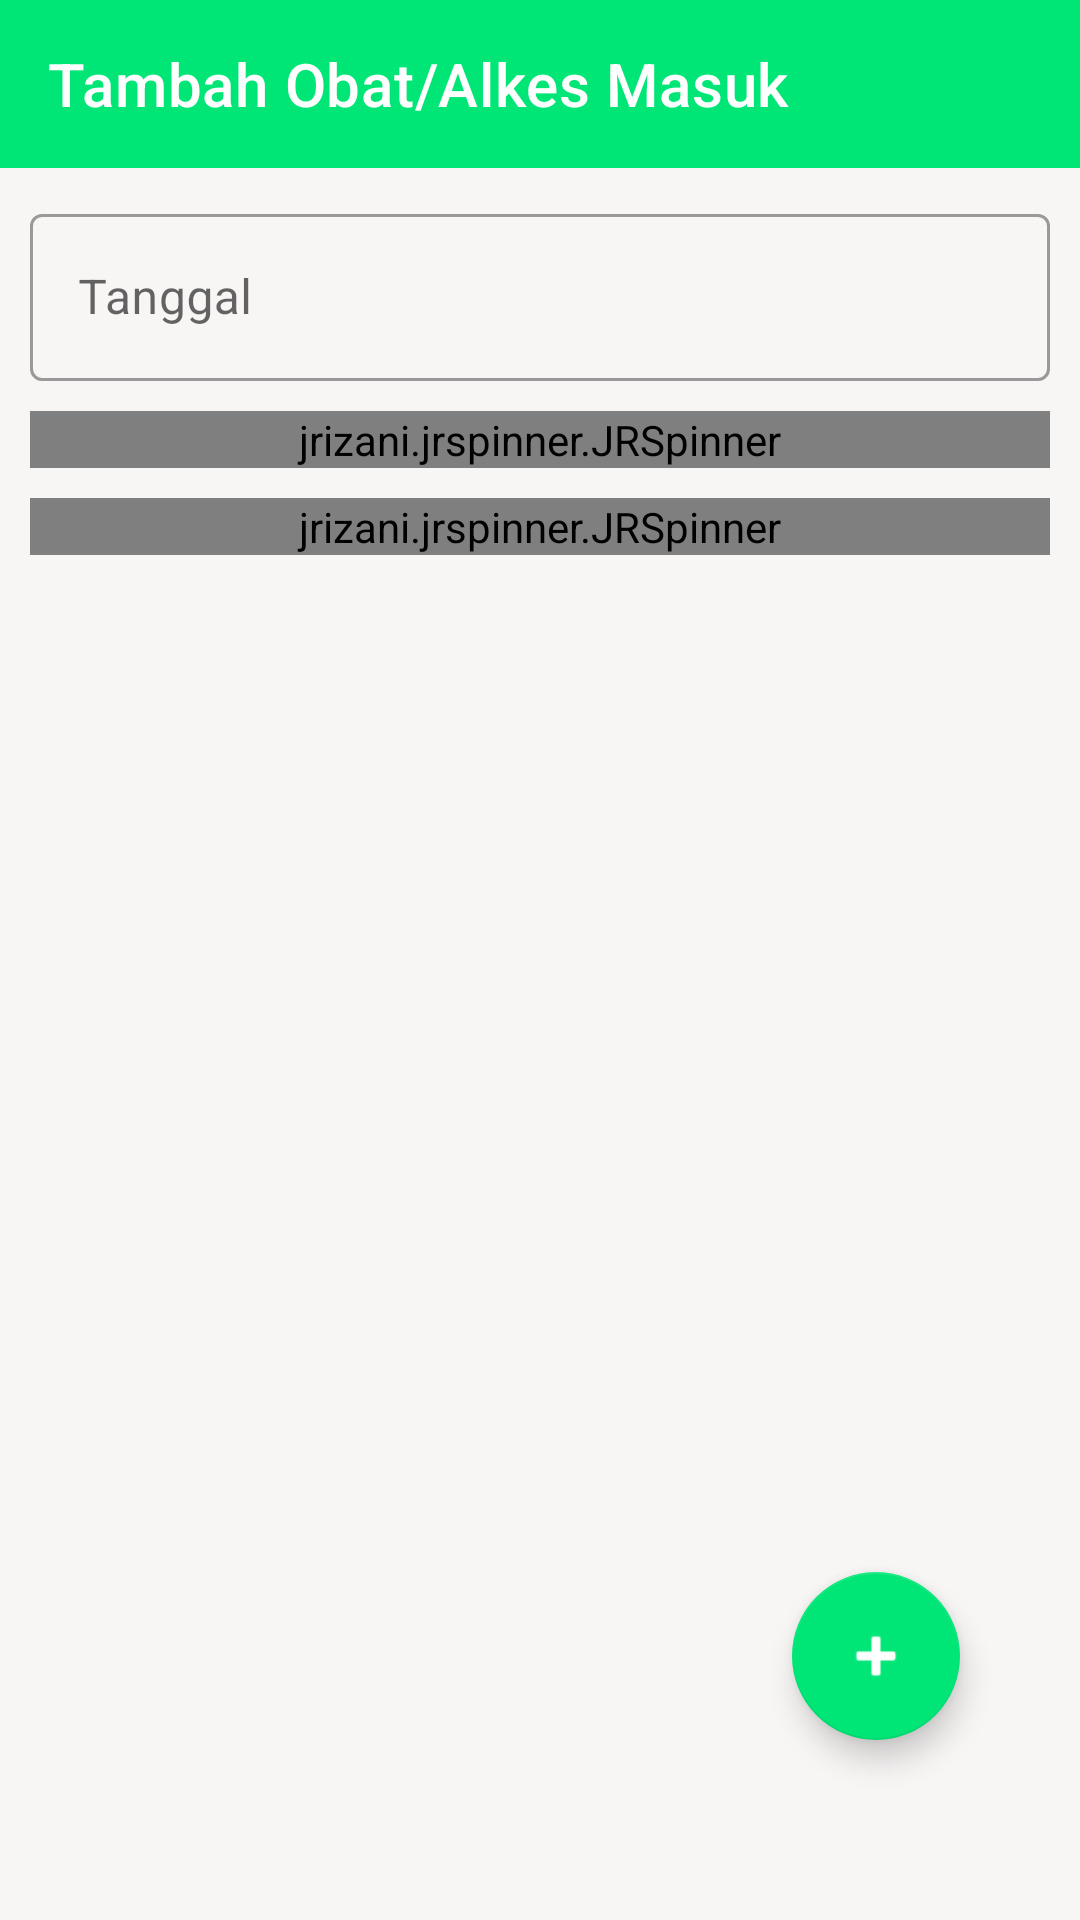

Screen size 1080w x 1920h. Icon name, then its center in pixels as point (x, y):
add: point (876, 1656)
